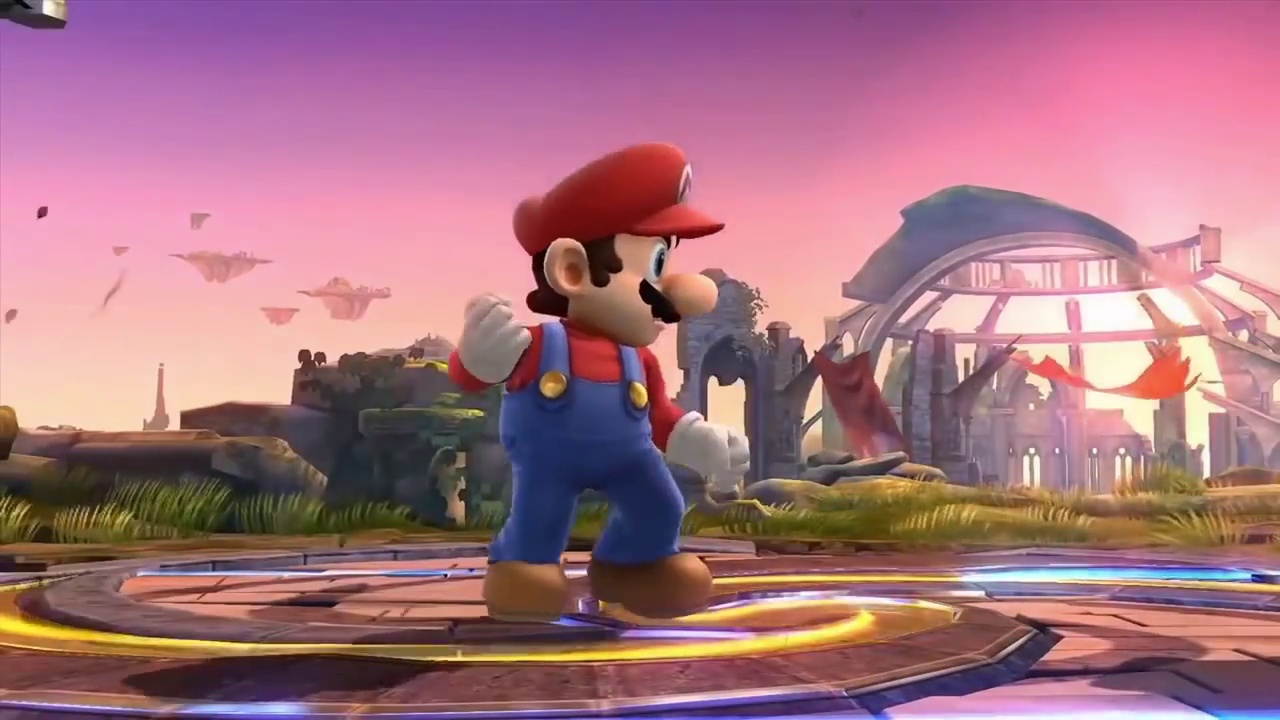Mario: (448, 145, 751, 611)
